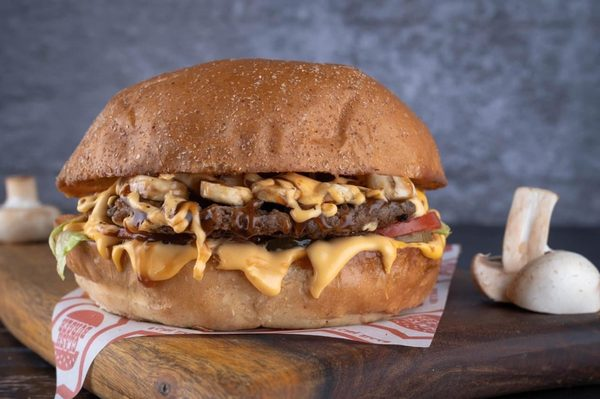soup: (54, 58, 452, 333)
